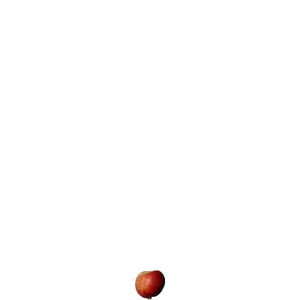nectarina: (134, 271, 166, 300)
